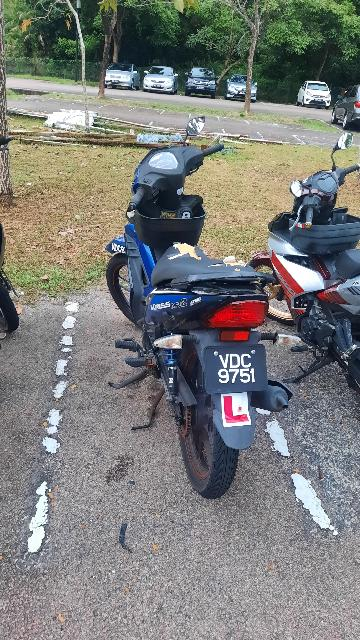License_Plate: (201, 342, 271, 395)
motorcycle: (91, 109, 284, 512)
